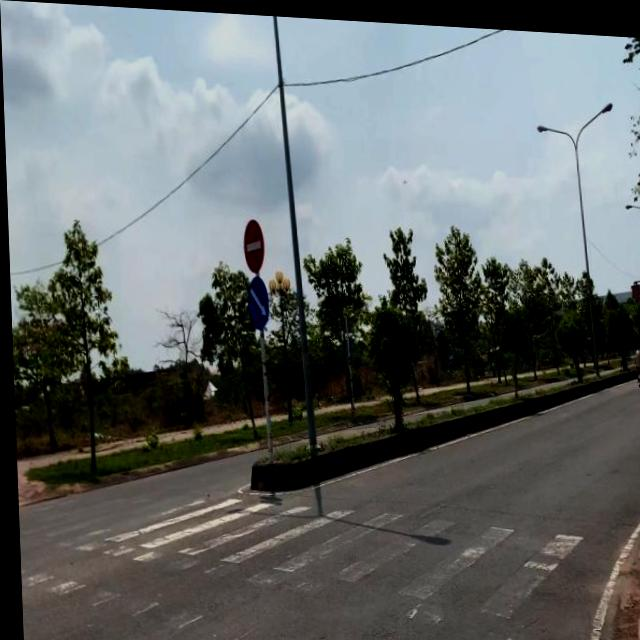Cam di nguoc chieu: (240, 214, 264, 271)
Vong chuong ngai vat sang phai: (244, 272, 268, 330)
